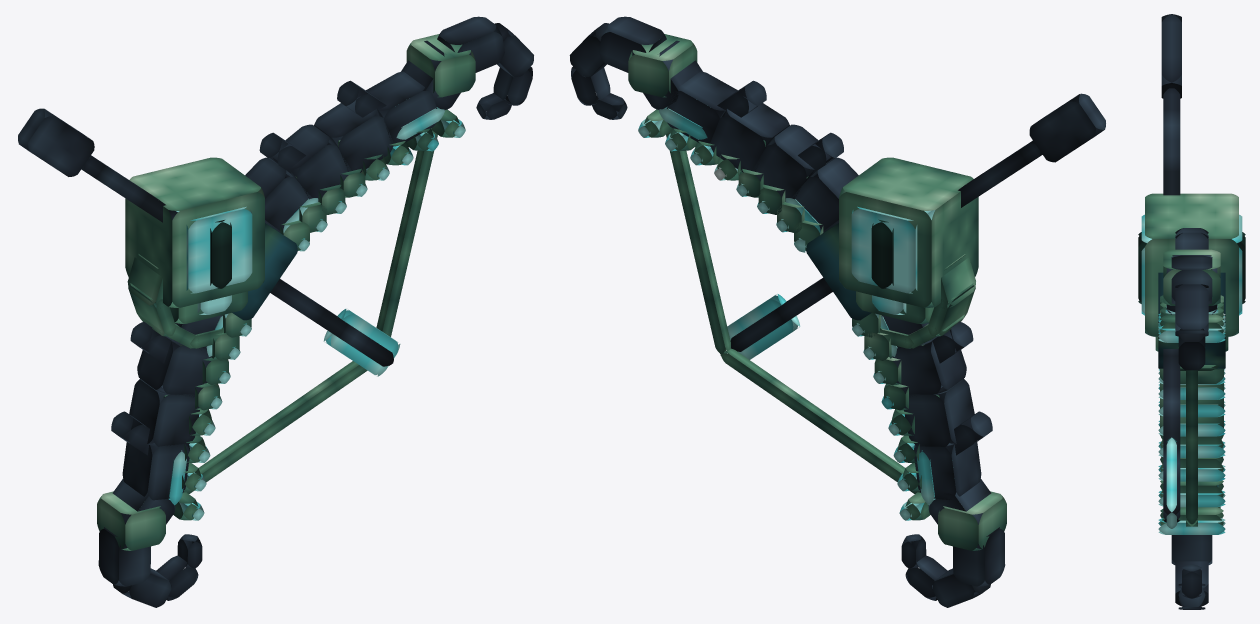
Rendered from kraken_bow_pulling_2.obj.
The picture shows the model from 3 angles, left to right: view 1: azimuth 30°, elevation 25°; view 2: azimuth 150°, elevation 25°; view 3: azimuth 270°, elevation 25°; orthographic projection.
Parts seen in each view (by area): view 1: lit, fire; view 2: lit, fire; view 3: lit, fire.
Boxes of the visible parts, <box> form: lit: <box>18,16,533,607</box>; fire: <box>169,107,465,520</box>; lit: <box>569,16,1105,607</box>; fire: <box>638,107,935,520</box>; lit: <box>1138,14,1245,609</box>; fire: <box>1141,214,1242,534</box>.
Size of the model in its own units: 1.12 by 1.1 by 0.2.
